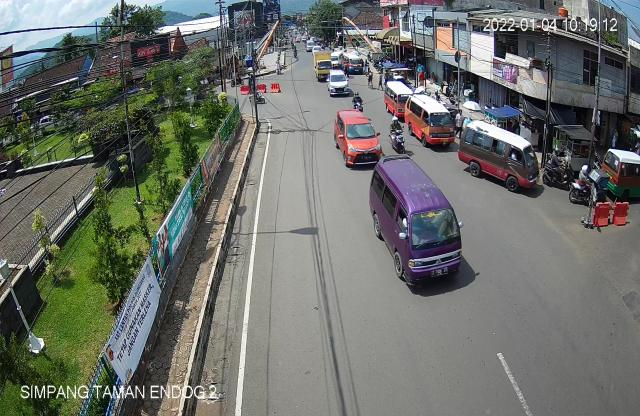Becak: (570, 164, 611, 210)
Mobil: (366, 151, 472, 293), (458, 120, 540, 194), (330, 105, 384, 169), (406, 89, 458, 150), (603, 145, 640, 204), (382, 74, 412, 122), (327, 69, 352, 96)
Motor: (542, 146, 575, 187), (390, 111, 413, 158)
